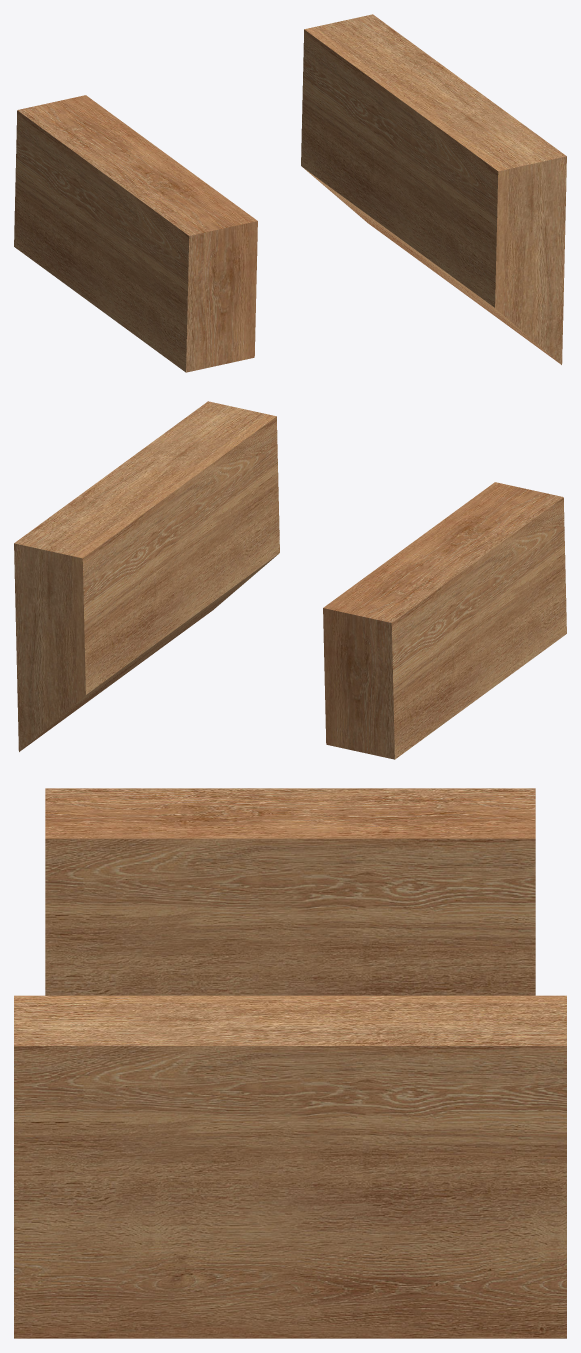
The model's file is 37821_deepcad-end2end.glb.
3 renders of one model, top to bottom at view 1: azimuth 30°, elevation 25°; view 2: azimuth 150°, elevation 25°; view 3: azimuth 270°, elevation 25°, orthographic. The views are drawn at different scales.
Parts seen in each view (by area): view 1: test_cmd_37821_pred; view 2: test_cmd_37821_pred; view 3: test_cmd_37821_pred.
Part boxes in pixels (left/top/right/bottom): test_cmd_37821_pred: left=14, top=14, right=566, bottom=372; test_cmd_37821_pred: left=14, top=401, right=566, bottom=759; test_cmd_37821_pred: left=14, top=788, right=566, bottom=1338.
Bounding box in the file's own units: 1 × 0.5414 × 0.9088.
1 material, 1 textured.
